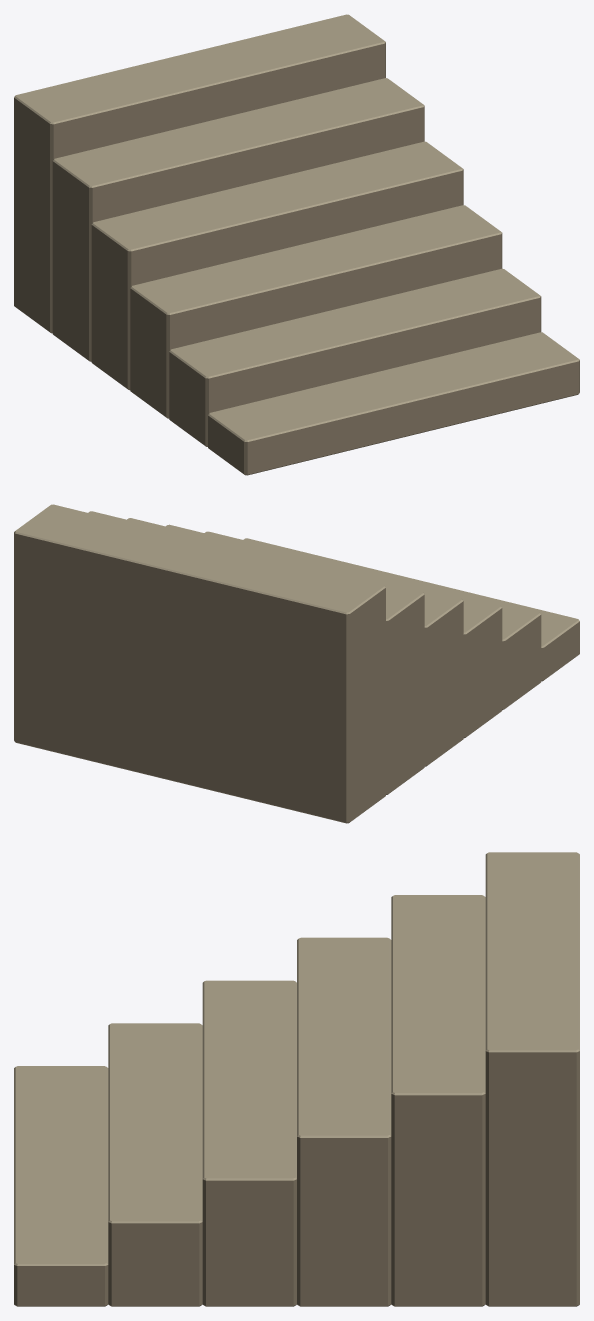
Rendered from stair-full.glb.
The picture shows the model from 3 angles, top to bottom: view 1: azimuth 30°, elevation 25°; view 2: azimuth 150°, elevation 25°; view 3: azimuth 270°, elevation 25°; orthographic projection. The views are drawn at different scales.
Parts seen in each view (by area): view 1: stair-full__body; view 2: stair-full__body; view 3: stair-full__body.
Part boxes in pixels (box(x1,y1,x2,y2)): stair-full__body: box(14, 14, 579, 475); stair-full__body: box(14, 504, 579, 823); stair-full__body: box(14, 852, 579, 1306).
Size of the model in its own units: 2 by 1.2 by 2.4.
